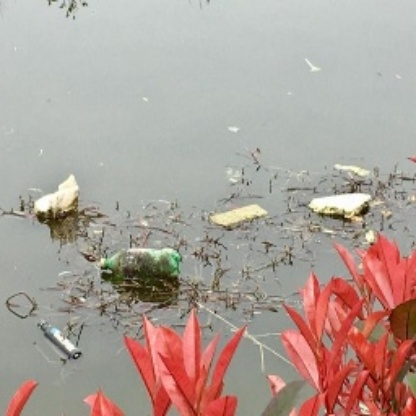bottle: (100, 243, 183, 282), (34, 317, 85, 363)
plastic-garbage: (32, 172, 84, 228), (305, 189, 376, 221)
